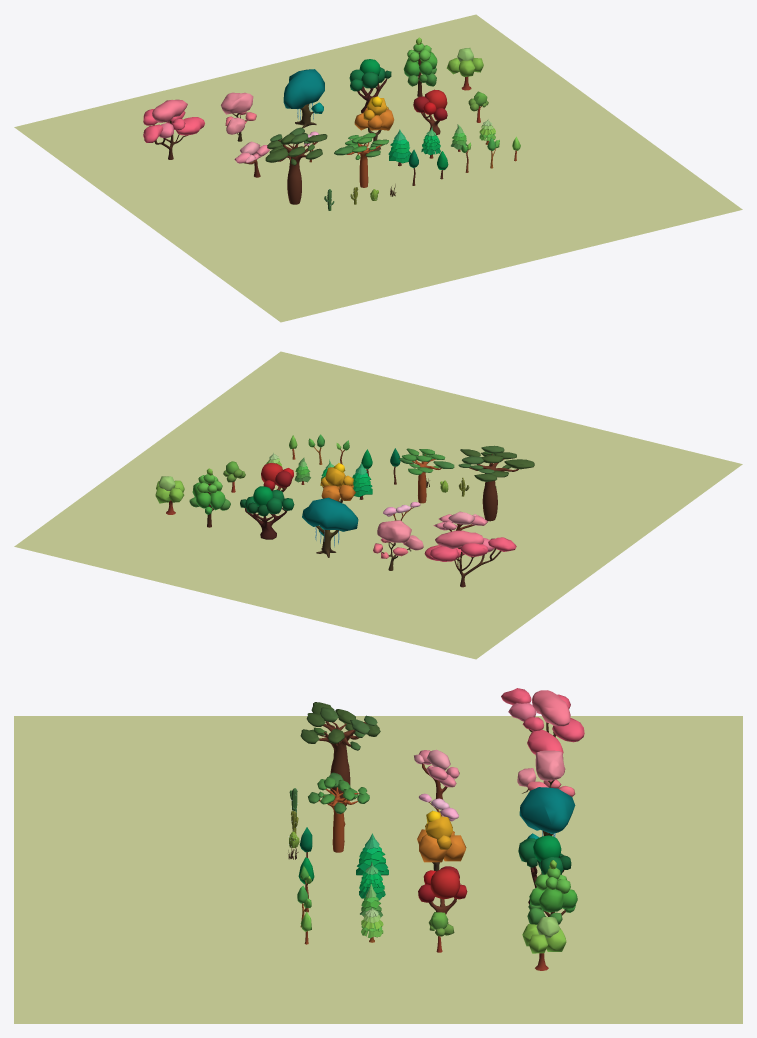
The picture shows the model from 3 angles, top to bottom: view 1: azimuth 30°, elevation 25°; view 2: azimuth 150°, elevation 25°; view 3: azimuth 270°, elevation 25°; orthographic projection. The views are drawn at different scales.
Parts seen in each view (by area): view 1: pPlane1, Tree015, Tree026, Tree024, Tree022, Tree023, Tree014, Tree025, Tree018, Tree017, Tree021, Tree019 (+1 smaller); view 2: pPlane1, Tree026, Tree015, Tree024, Tree023, Tree025, Tree022, Tree014, Tree018, Tree021, Tree017, Tree019; view 3: pPlane1, Tree026, Tree015, Tree024, Tree022, Tree018, Tree014, Tree017, Tree023, Tree025, Tree021, Tree019 (+2 smaller).
Boxes of the visible parts, <box> form: pPlane1: <box>14,14,742,322</box>; Tree015: <box>265,127,327,204</box>; Tree026: <box>143,99,204,159</box>; Tree024: <box>283,69,324,127</box>; Tree022: <box>403,37,437,96</box>; Tree023: <box>349,59,391,112</box>; Tree014: <box>334,133,388,187</box>; Tree025: <box>221,92,256,141</box>; Tree018: <box>354,96,394,150</box>; Tree017: <box>413,89,447,135</box>; Tree021: <box>446,48,483,90</box>; Tree019: <box>234,141,269,177</box>; pPlane1: <box>14,351,742,659</box>; Tree026: <box>424,530,516,587</box>; Tree015: <box>458,445,534,521</box>; Tree024: <box>302,497,358,557</box>; Tree023: <box>240,486,294,539</box>; Tree025: <box>373,520,423,570</box>; Tree022: <box>189,468,230,527</box>; Tree014: <box>398,448,454,503</box>; Tree018: <box>320,463,355,502</box>; Tree021: <box>155,476,184,514</box>; Tree017: <box>261,463,293,491</box>; Tree019: <box>433,511,488,531</box>; pPlane1: <box>14,716,742,1023</box>; Tree026: <box>501,688,584,754</box>; Tree015: <box>300,702,380,806</box>; Tree024: <box>519,787,575,839</box>; Tree022: <box>527,860,577,924</box>; Tree018: <box>417,810,466,870</box>; Tree014: <box>308,772,369,852</box>; Tree017: <box>418,866,467,914</box>; Tree023: <box>518,835,571,904</box>; Tree025: <box>517,750,575,796</box>; Tree021: <box>522,917,566,970</box>; Tree019: <box>414,749,459,799</box>.
Bounding box in the file's own units: 9.12 × 1.32 × 9.12.
Materials: 2 (1 with a texture image).
